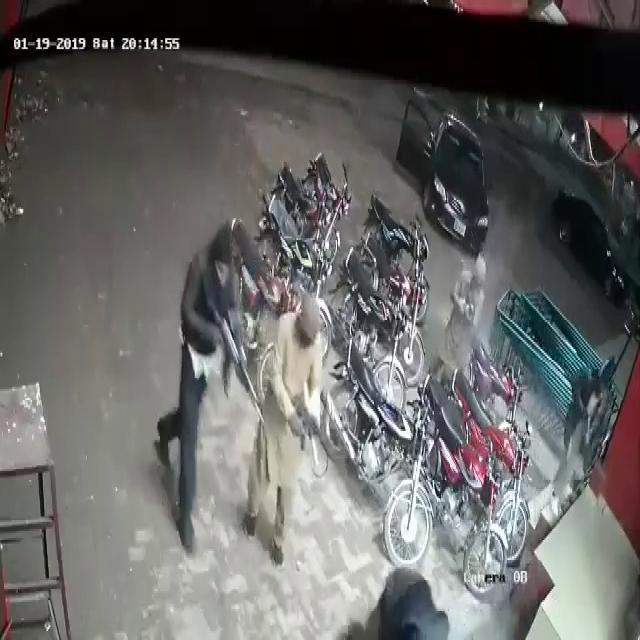weapon: (206, 289, 266, 426)
